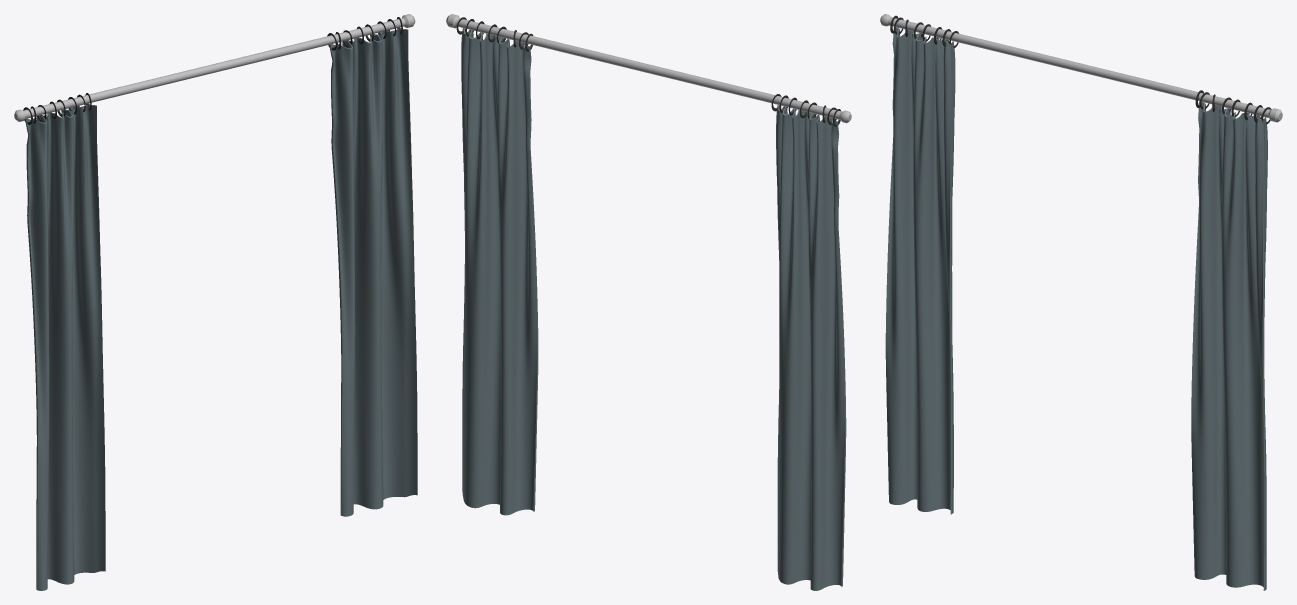
Rendered from CurtainsOpen01.fbx.
3 renders of one model, left to right at view 1: azimuth 30°, elevation 25°; view 2: azimuth 150°, elevation 25°; view 3: azimuth 330°, elevation 25°, orthographic.
Parts seen in each view (by area): view 1: pPlane2 (×2), pCylinder1; view 2: pPlane2 (×2), pCylinder1; view 3: pPlane2 (×2), pCylinder1.
Boxes of the visible parts, x1,y1,x2,y2 form: pPlane2 (×2): (25,27,417,590); pCylinder1: (14,14,415,121); pPlane2 (×2): (461,28,846,590); pCylinder1: (446,14,851,123); pPlane2 (×2): (885,27,1267,590); pCylinder1: (880,14,1282,122).
Size of the model in its own units: 105 by 122 by 8.12.
